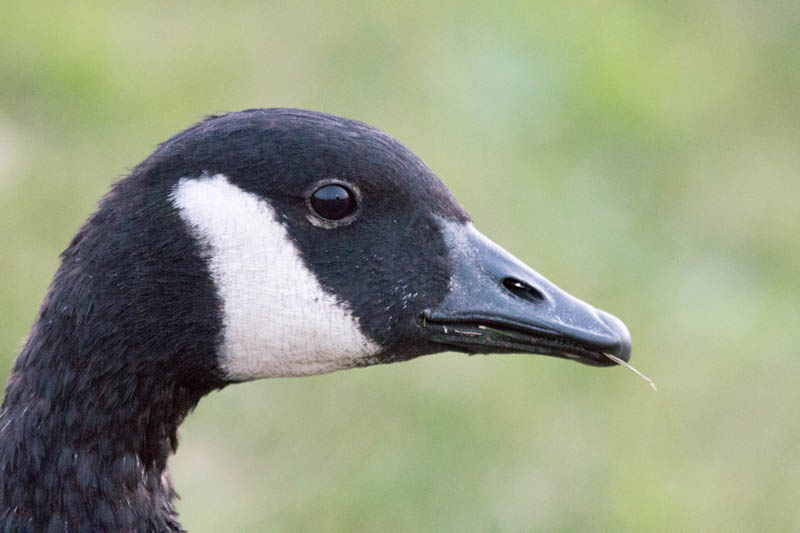goose-head: (107, 108, 633, 386)
